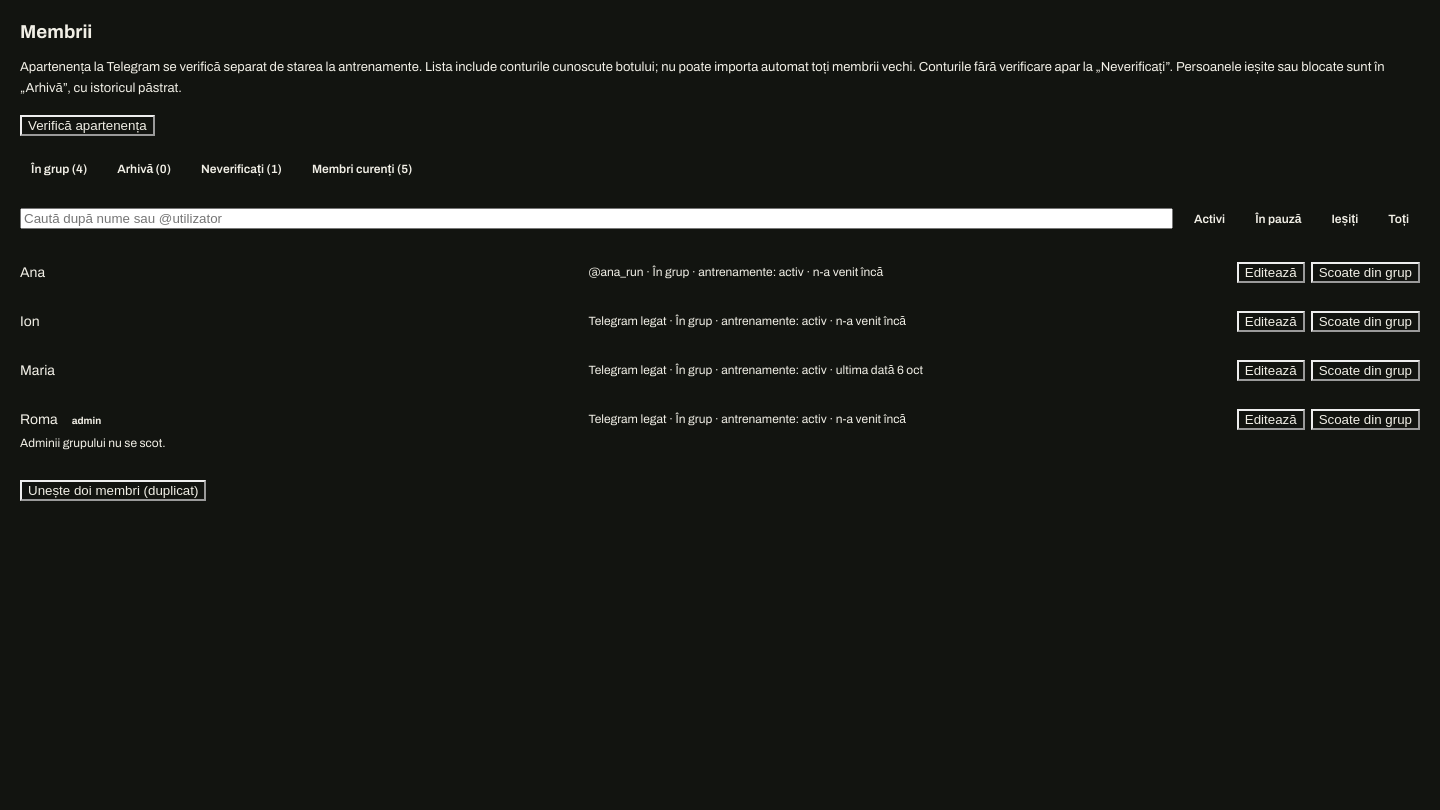
Membrii grupului — editarea, conturile, unirea › un utilizator cu caractere HTML blochează salvarea
Expected: the text "Ion" is shown, [20, 314, 40, 329]
Click the button "Editează" in the row of "Ion" at (1271, 321), box [1237, 311, 1305, 332]
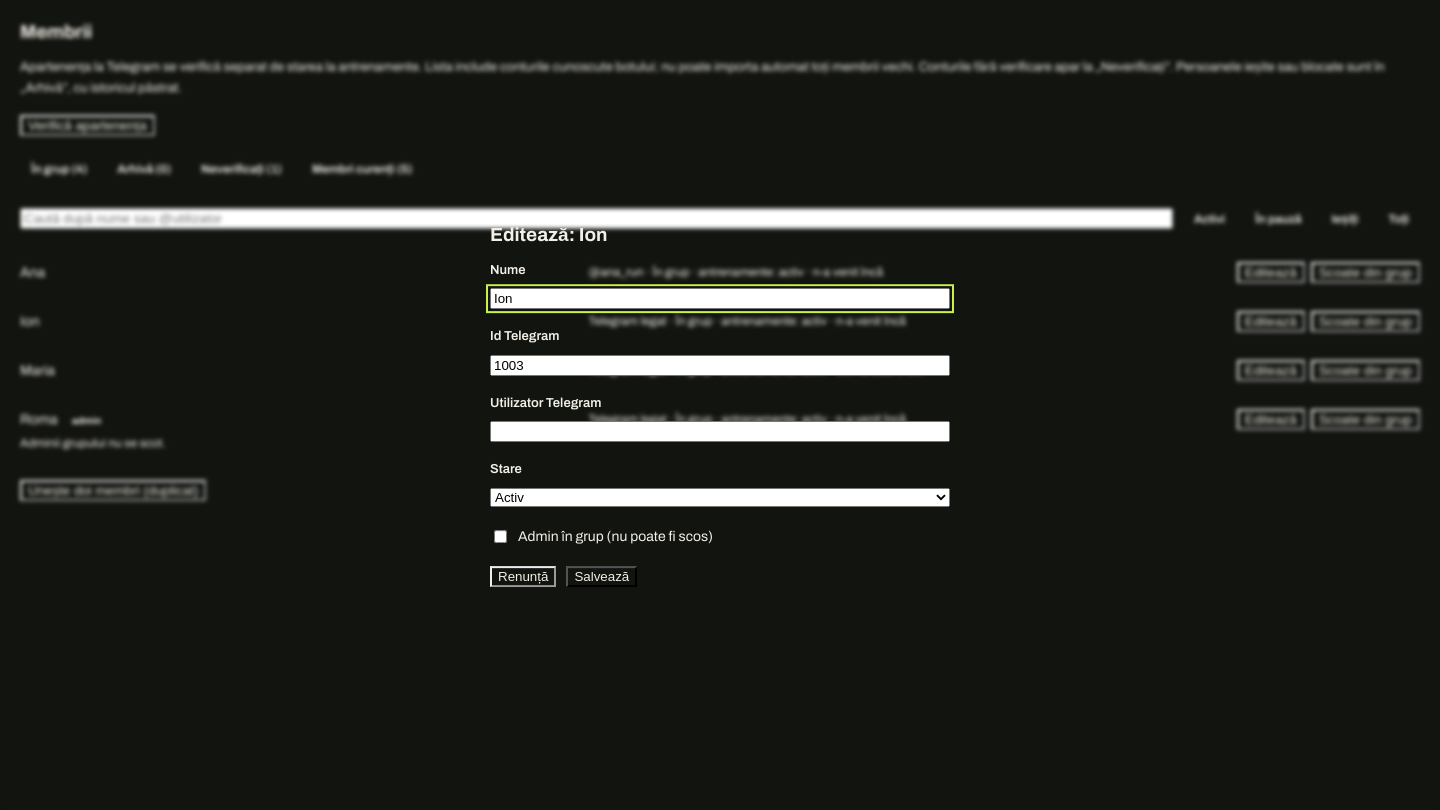
Type "<b>" into the field labelled "Utilizator Telegram" at (720, 432), box [490, 421, 950, 442]
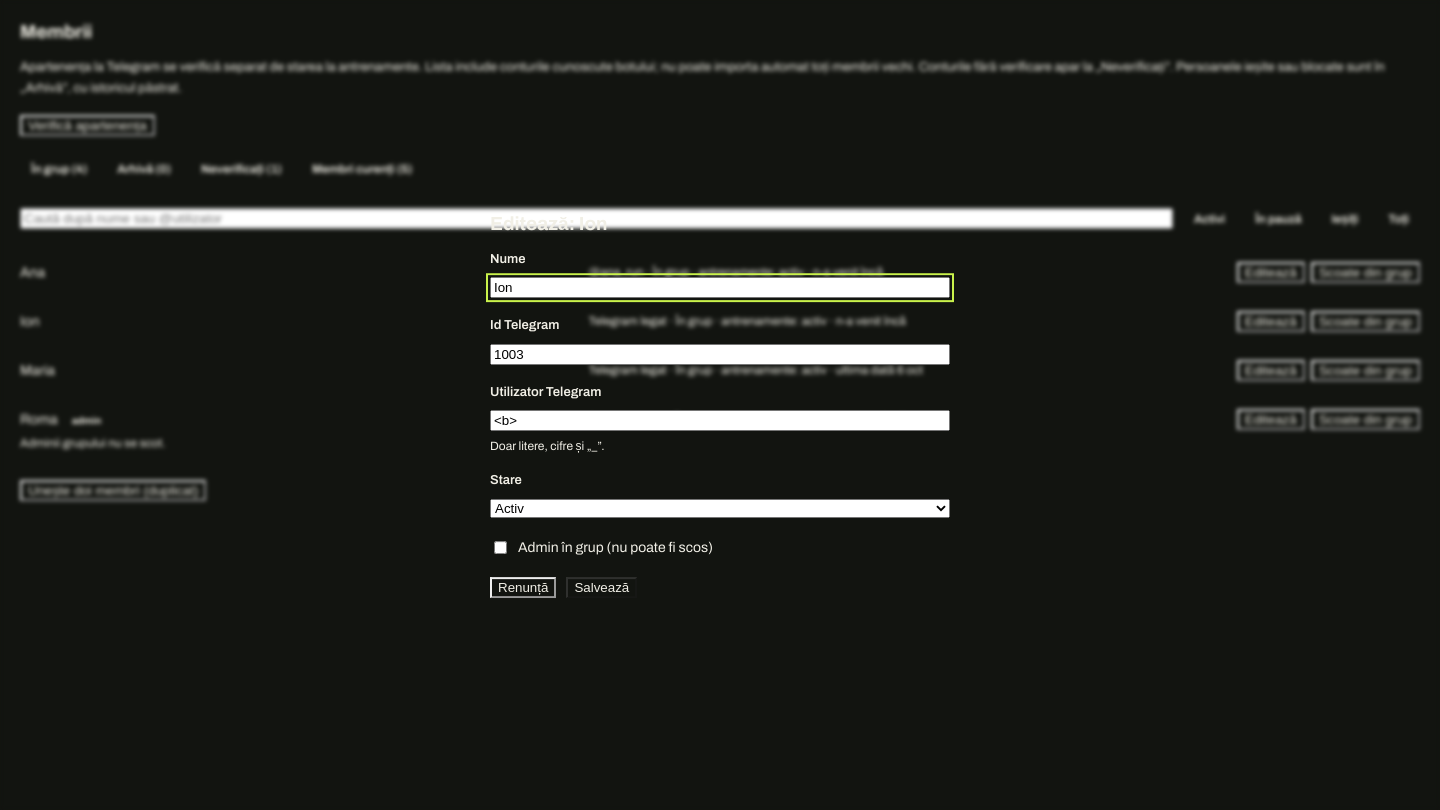
Now the button "Salvează" is disabled, box [566, 577, 637, 598]
